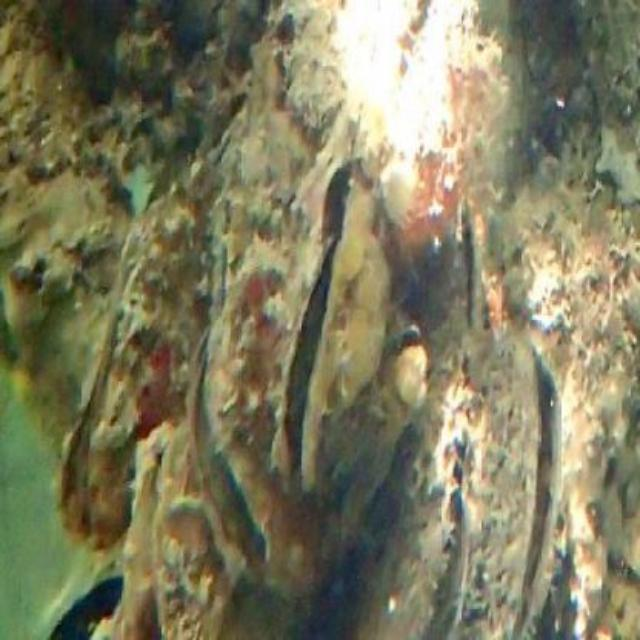Oyster-Closed: (57, 205, 215, 550), (95, 419, 178, 638), (154, 417, 234, 638)
Oyster-Open: (195, 243, 429, 610), (279, 173, 394, 500), (303, 433, 475, 638), (478, 337, 567, 638), (29, 564, 125, 638)
